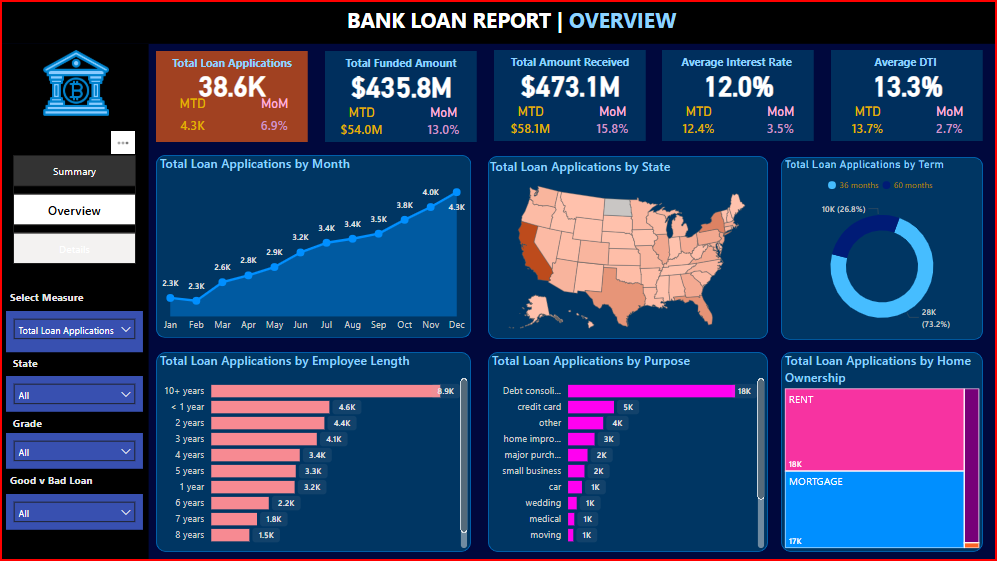

This screenshot's page, from the dashboard's own definition file:
{"tool":"powerbi","page":{"name":"Overview","canvas":[1280,720],"ordinal":1},"visuals":[{"type":"shape","box":[0,0,1280,55],"z":0},{"type":"shape","box":[0,55.3,191.5,664.4],"z":1000},{"type":"textbox","box":[440.8,1.3,448.5,50.1],"z":2000},{"type":"shape","box":[634.5,63,195.3,116.9],"z":3000,"group":"g3"},{"type":"shape","box":[851.2,63,195.3,116.9],"z":3000,"group":"g4"},{"type":"shape","box":[1068,63,195.3,116.9],"z":3000,"group":"g5"},{"type":"group","id":"g1","title":"Group 1","box":[200,64.3,195.8,116.9],"z":3000},{"type":"shape","box":[200.4,64.3,195.3,116.9],"z":3000,"group":"g1"},{"type":"shape","box":[417.2,64.3,195.3,116.9],"z":3000,"group":"g2"},{"type":"group","id":"g2","title":"Group 1","box":[417.2,64.3,195.9,116.9],"z":4000},{"type":"card","fields":{"Values":["financial_loan.Total Amount Received"]},"box":[636.4,80.7,194.1,52.7],"z":4000,"group":"g3"},{"type":"card","fields":{"Values":["financial_loan.Avg Interest Rate"]},"box":[853.1,80.7,194.1,52.7],"z":4000,"group":"g4"},{"type":"card","fields":{"Values":["financial_loan.Avg DTI"]},"box":[1069.9,80.7,194.1,52.7],"z":4000,"group":"g5"},{"type":"card","fields":{"Values":["financial_loan.Total Loan Applications"]},"box":[200,82,195.3,50.1],"z":4000,"group":"g1"},{"type":"card","fields":{"Values":["financial_loan.Total Funded Amount"]},"box":[419.1,82,194.1,52.7],"z":4000,"group":"g2"},{"type":"textbox","box":[634.5,63,195.3,36],"z":5000,"group":"g3"},{"type":"textbox","box":[851.2,63,195.3,36],"z":5000,"group":"g4"},{"type":"textbox","box":[1068,63,195.3,36],"z":5000,"group":"g5"},{"type":"textbox","box":[200.4,64.3,195.3,36],"z":5000,"group":"g1"},{"type":"textbox","box":[417.2,64.3,195.3,36],"z":5000,"group":"g2"},{"type":"shape","box":[200.5,197.9,405,235],"z":5000},{"type":"group","id":"g3","title":"Group 1","box":[634.5,63,195.3,116.9],"z":6000},{"type":"card","title":"MTD","fields":{"Values":["financial_loan.MTD Loan Applications"]},"box":[214.1,121.8,65.5,59.1],"z":6000,"group":"g1"},{"type":"card","title":"MTD","fields":{"Values":["financial_loan.MTD Total Amount Recieved"]},"box":[649.2,132.1,65.5,47.6],"z":6000,"group":"g3"},{"type":"card","title":"MTD","fields":{"Values":["financial_loan.MTD Avg Int Rate"]},"box":[865.9,132.1,65.5,47.6],"z":6000,"group":"g4"},{"type":"card","title":"MTD","fields":{"Values":["financial_loan.MTD Avg DTI"]},"box":[1082.7,132.1,65.5,47.6],"z":6000,"group":"g5"},{"type":"card","title":"MTD","fields":{"Values":["financial_loan.MTD Funded Amount"]},"box":[431.9,133.4,65.5,47.6],"z":6000,"group":"g2"},{"type":"group","id":"g4","title":"Group 1","box":[851.2,63,195.3,116.9],"z":7000},{"type":"card","title":"MoM","fields":{"Values":["financial_loan.MoM Loan Applications"]},"box":[319.5,121.8,65.5,59.1],"z":7000,"group":"g1"},{"type":"card","title":"MoM","fields":{"Values":["financial_loan.MoM Total  Amount Received"]},"box":[754.6,132.1,65.5,47.6],"z":7000,"group":"g3"},{"type":"card","title":"MoM","fields":{"Values":["financial_loan.MoM Avg Int Rate"]},"box":[971.3,132.1,65.5,47.6],"z":7000,"group":"g4"},{"type":"card","title":"MoM","fields":{"Values":["financial_loan.MoM Avg DTI"]},"box":[1188.1,132.1,65.5,47.6],"z":7000,"group":"g5"},{"type":"card","title":"MoM","fields":{"Values":["financial_loan.MoM Total Funded Amount"]},"box":[537.3,133.4,65.5,47.6],"z":7000,"group":"g2"},{"type":"group","id":"g5","title":"Group 1","box":[1068,63,195.3,116.9],"z":8000},{"type":"slicer","fields":{"Values":["financial_loan.address_state"]},"box":[7.7,481.9,176.1,46.3],"z":9000},{"type":"textbox","box":[7.7,451.1,64.3,30.8],"z":10000},{"type":"slicer","fields":{"Values":["financial_loan.grade"]},"box":[7.7,555.2,176.1,46.3],"z":11000},{"type":"textbox","box":[7.7,528.2,64.3,27],"z":12000},{"type":"slicer","fields":{"Values":["financial_loan.Good vs Bad Loan"]},"box":[7.7,633.6,176.1,46.3],"z":13000},{"type":"textbox","box":[7.7,601.4,128.5,32.1],"z":14000},{"type":"areaChart","fields":{"Y":["financial_loan.Total Loan Applications"],"Category":["Date Table.Month"]},"box":[200.5,197.9,404.8,236.5],"z":15000},{"type":"slicer","fields":{"Values":["Selected Measure.Selected Measure"]},"box":[7.7,398.4,176.1,52.7],"z":16000},{"type":"textbox","box":[7.7,366.3,128.5,32.1],"z":17000},{"type":"shape","box":[627.1,199.2,360,235.2],"z":18000},{"type":"shapeMap","fields":{"Value":["financial_loan.Total Loan Applications"],"Category":["financial_loan.address_state"]},"box":[624.6,201.8,362.4,233.9],"z":19000},{"type":"shape","box":[1003.7,200.5,259.6,235.2],"z":20000},{"type":"donutChart","fields":{"Y":["financial_loan.Total Loan Applications"],"Category":["financial_loan.term"]},"box":[1003.7,201.8,259.6,235.2],"z":21000},{"type":"shape","box":[200.5,451.1,404.8,257],"z":22000},{"type":"barChart","fields":{"Y":["financial_loan.Total Loan Applications"],"Category":["financial_loan.emp_length"]},"box":[200.5,451.1,404.8,257],"z":23000},{"type":"shape","box":[627.1,451.1,359.8,257],"z":24000},{"type":"barChart","fields":{"Y":["financial_loan.Total Loan Applications"],"Category":["financial_loan.purpose"]},"box":[627.1,451.1,359.8,257],"z":25000},{"type":"shape","box":[1003.7,451.1,259.6,257],"z":25001},{"type":"treemap","fields":{"Group":["financial_loan.home_ownership"],"Values":["financial_loan.Total Loan Applications"]},"box":[1003.7,451.1,259.6,257],"z":25002},{"type":"pageNavigator","box":[16.7,197.9,158.1,140.1],"z":25003},{"type":"image","box":[21.8,55.3,152.9,100.2],"z":25004}]}

Visuals, with their boxes in screenshot pixels (x1, y1, x2, y2), scaled from the page's 1280x720 canvas onto the 997x561 screenshot:
shape: 0 0 996 43
shape: 0 43 149 560
textbox: 343 1 693 40
shape: 494 49 646 140
shape: 663 49 815 140
shape: 832 49 984 140
"Group 1" group: 156 50 308 141
shape: 156 50 308 141
shape: 325 50 477 141
"Group 1" group: 325 50 478 141
card - financial_loan.Total Amount Received: 496 63 647 104
card - financial_loan.Avg Interest Rate: 664 63 816 104
card - financial_loan.Avg DTI: 833 63 985 104
card - financial_loan.Total Loan Applications: 156 64 308 103
card - financial_loan.Total Funded Amount: 326 64 478 105
textbox: 494 49 646 77
textbox: 663 49 815 77
textbox: 832 49 984 77
textbox: 156 50 308 78
textbox: 325 50 477 78
shape: 156 154 472 337
"Group 1" group: 494 49 646 140
"MTD" card: 167 95 218 141
"MTD" card: 506 103 557 140
"MTD" card: 674 103 725 140
"MTD" card: 843 103 894 140
"MTD" card: 336 104 387 141
"Group 1" group: 663 49 815 140
"MoM" card: 249 95 300 141
"MoM" card: 588 103 639 140
"MoM" card: 757 103 808 140
"MoM" card: 925 103 976 140
"MoM" card: 419 104 470 141
"Group 1" group: 832 49 984 140
slicer - financial_loan.address_state: 6 375 143 412
textbox: 6 351 56 375
slicer - financial_loan.grade: 6 433 143 469
textbox: 6 412 56 433
slicer - financial_loan.Good vs Bad Loan: 6 494 143 530
textbox: 6 469 106 494
areaChart - financial_loan.Total Loan Applications x Date Table.Month: 156 154 471 338
slicer - Selected Measure.Selected Measure: 6 310 143 351
textbox: 6 285 106 310
shape: 488 155 769 338
shapeMap - financial_loan.Total Loan Applications x financial_loan.address_state: 487 157 769 339
shape: 782 156 984 339
donutChart - financial_loan.Total Loan Applications x financial_loan.term: 782 157 984 340
shape: 156 351 471 552
barChart - financial_loan.Total Loan Applications x financial_loan.emp_length: 156 351 471 552
shape: 488 351 769 552
barChart - financial_loan.Total Loan Applications x financial_loan.purpose: 488 351 769 552
shape: 782 351 984 552
treemap - financial_loan.home_ownership x financial_loan.Total Loan Applications: 782 351 984 552
pageNavigator: 13 154 136 263
image: 17 43 136 121
